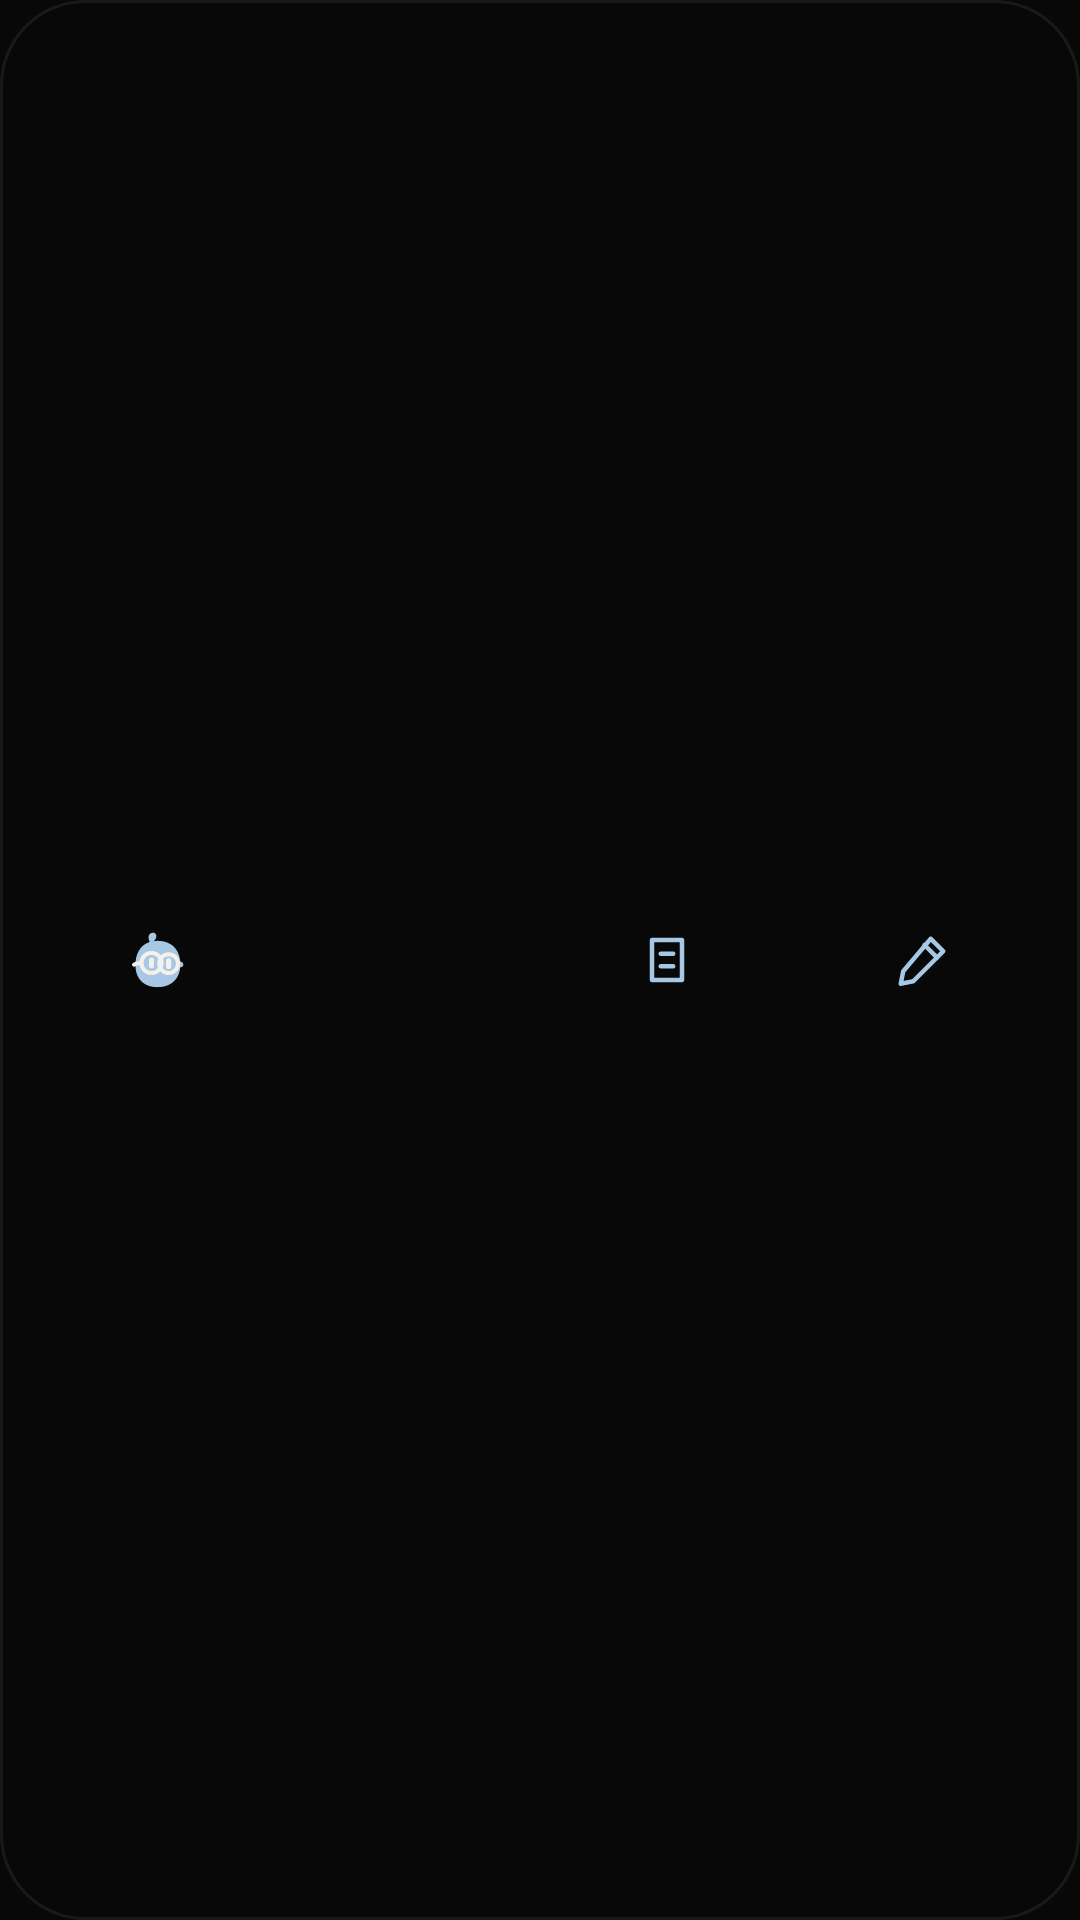

Where to tap for icons on this 1080px x 1920px app screen, as [x,y]:
mira widget ink: [922,961]
mira widget mark: [158,960]
mira widget note: [667,960]
